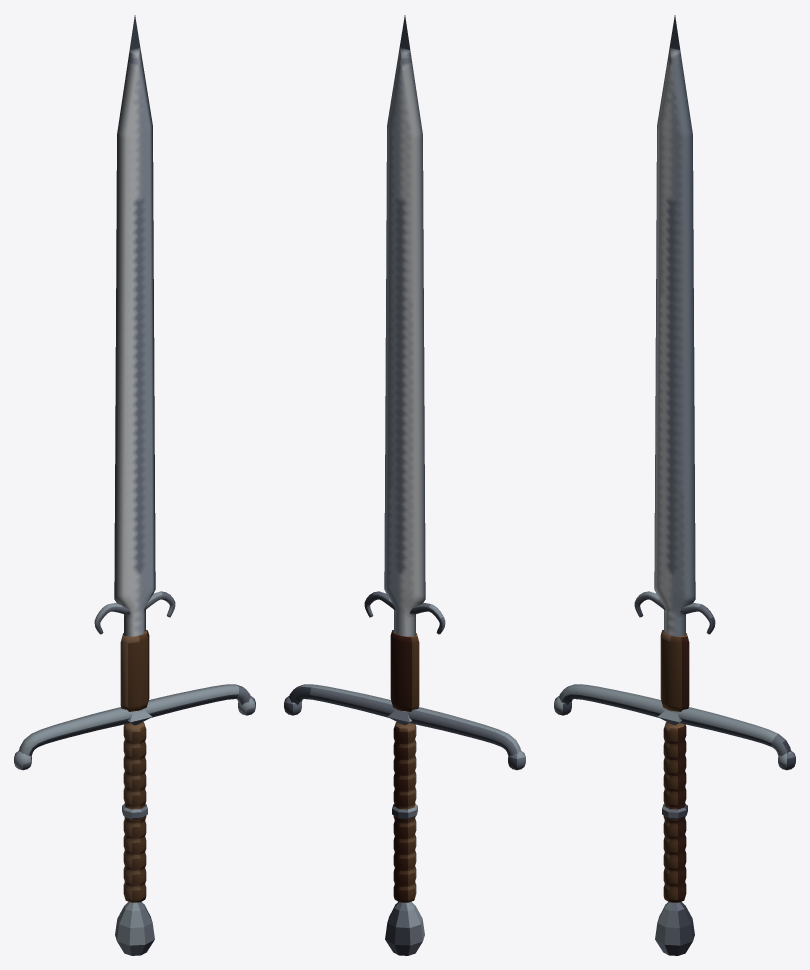
File: w_iron_zweihander.glb
3 views of the same model, side by side, from view 1: azimuth 30°, elevation 25°; view 2: azimuth 150°, elevation 25°; view 3: azimuth 330°, elevation 25° (orthographic).
Visible parts, largest first — view 1: Weapon; view 2: Weapon; view 3: Weapon.
Boxes of the visible parts, <box> form: Weapon: <box>14,15,255,955</box>; Weapon: <box>284,15,525,955</box>; Weapon: <box>554,15,795,955</box>.
Bounding box in the file's own units: 0.458 × 1.7 × 0.068.
